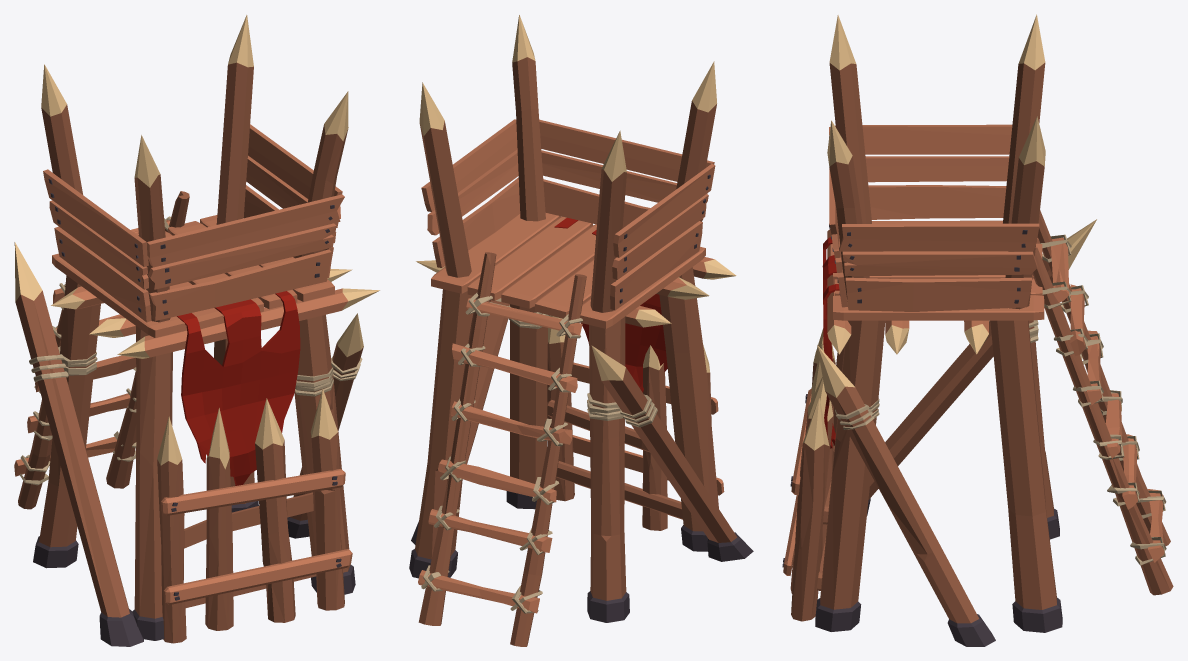
Rendered from Tower.fbx.
3 renders of one model, left to right at view 1: azimuth 30°, elevation 25°; view 2: azimuth 150°, elevation 25°; view 3: azimuth 270°, elevation 25°, orthographic. The views are drawn at different scales.
Parts seen in each view (by area): view 1: Tower.002; view 2: Tower.002; view 3: Tower.002.
Boxes of the visible parts, x1=… form: Tower.002: x1=14, y1=15, x2=379, y2=646; Tower.002: x1=409, y1=15, x2=753, y2=646; Tower.002: x1=782, y1=14, x2=1173, y2=646.
Bounding box in the file's own units: 2.48 × 4.31 × 2.97.
